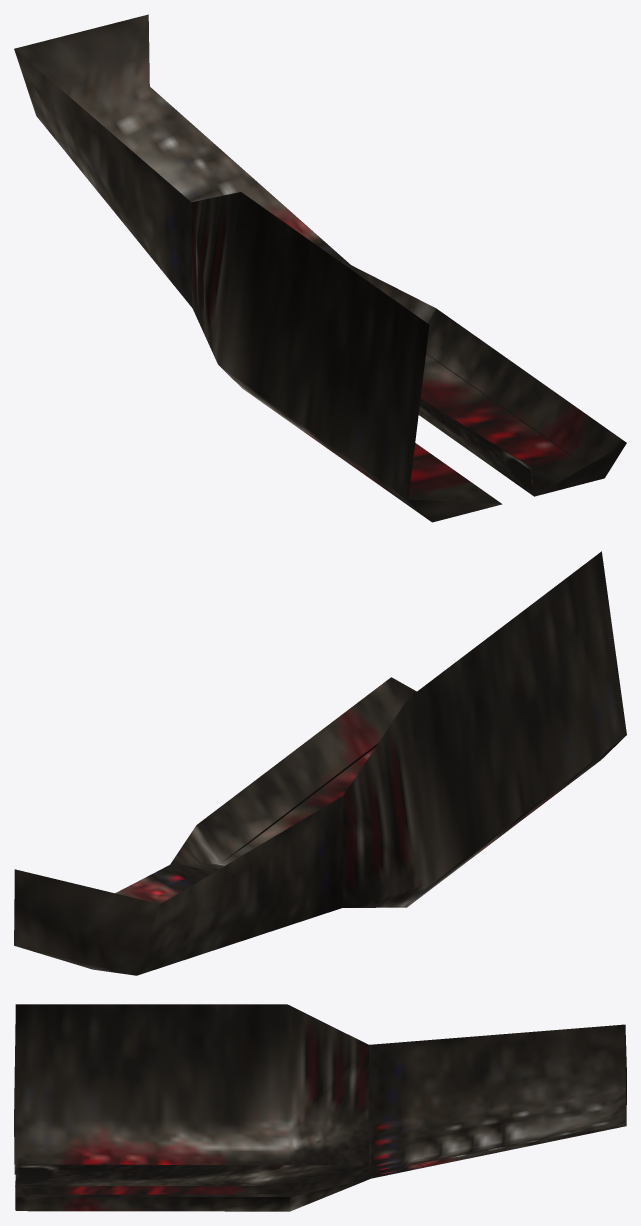
File: Pistol.obj
The picture shows the model from 3 angles, top to bottom: view 1: azimuth 30°, elevation 25°; view 2: azimuth 150°, elevation 25°; view 3: azimuth 270°, elevation 25°; orthographic projection. The views are drawn at different scales.
Parts seen in each view (by area): view 1: DPistol; view 2: DPistol; view 3: DPistol.
Boxes of the visible parts, x1=… form: DPistol: x1=14, y1=14, x2=626, y2=522; DPistol: x1=14, y1=551, x2=626, y2=975; DPistol: x1=14, y1=1004, x2=626, y2=1211.
Bounding box in the file's own units: 39.02 × 33.12 × 126.
1 material, 1 textured.
